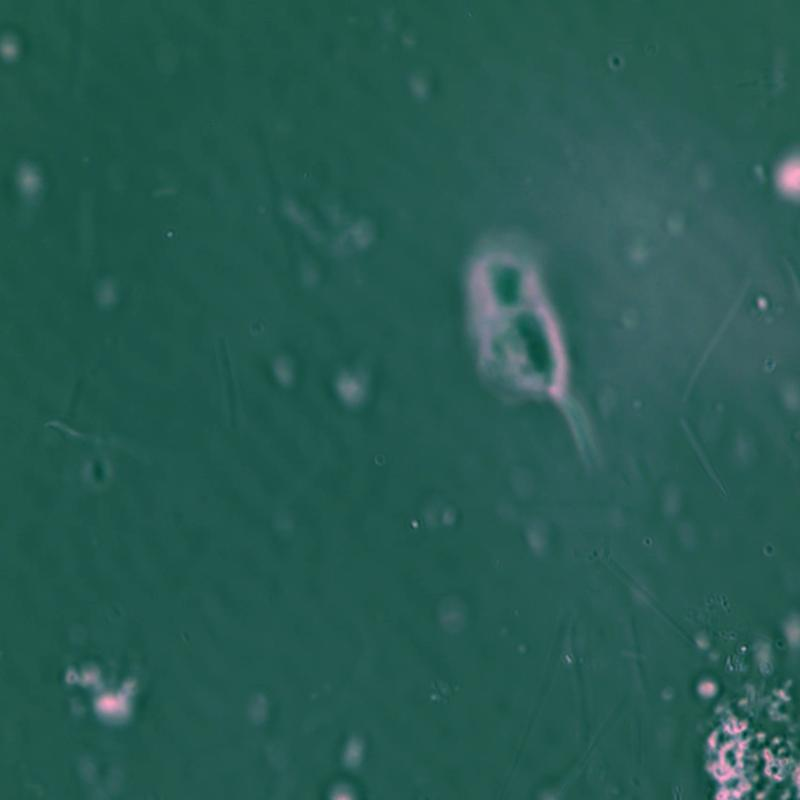depth:80: (434, 204, 634, 515)
